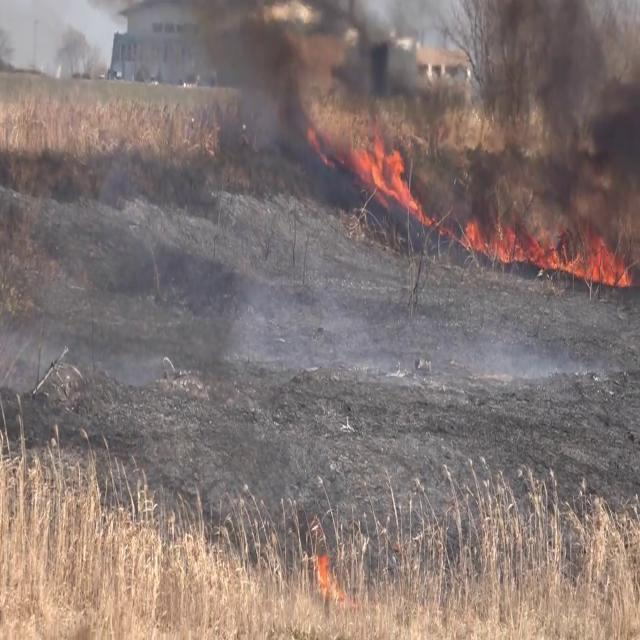Fire: (459, 215, 631, 285), (356, 132, 420, 212)
Smoke: (178, 6, 423, 148), (502, 2, 640, 220)
